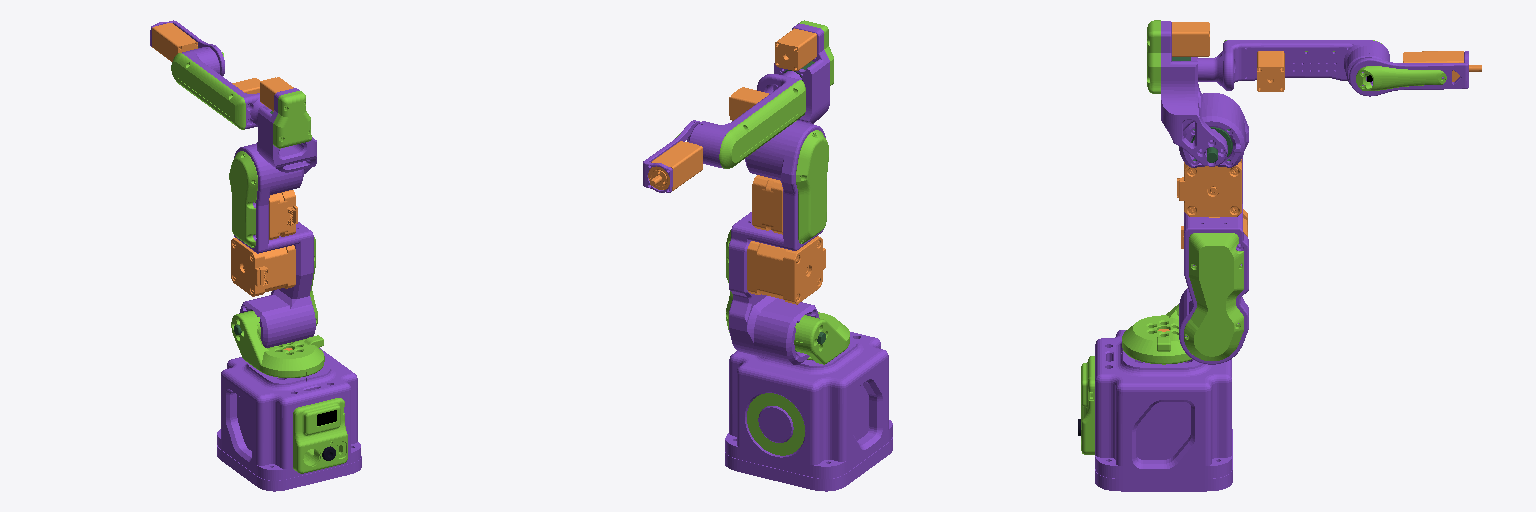
The robot description file, URDF, robot "R6DOF":
<?xml version="1.0"?>
<!-- created with Phobos 1.0.1 "Capricious Choutengan" -->
  <robot name="R6DOF">

    <link name="base">
      <visual name="Main_Base">
        <origin xyz="0 0.00275 0.04322" rpy="1.5708 0 0"/>
        <geometry>
          <mesh filename="package://test_pkg/meshes/dae/Main_Base.dae" scale="1.0 1.0 1.0"/>
        </geometry>
        <material name="VioletLight"/>
      </visual>
      <visual name="Main_BotonLED">
        <origin xyz="-0.01182 -0.04876 0.0236" rpy="1.5708 0 0"/>
        <geometry>
          <mesh filename="package://test_pkg/meshes/dae/Main_BotonLED.dae" scale="1.0 1.0 1.0"/>
        </geometry>
        <material name="GreenLight"/>
      </visual>
      <visual name="Main_CRK543AP-H50">
        <origin xyz="0 -0.00044 0.04208" rpy="1.5708 0 0"/>
        <geometry>
          <mesh filename="package://test_pkg/meshes/dae/Main_CRK543AP-H50.dae" scale="1.0 1.0 1.0"/>
        </geometry>
        <material name="Orange"/>
      </visual>
      <visual name="Main_CaseButtons">
        <origin xyz="-0.0022 -0.04876 0.02871" rpy="1.5708 0 0"/>
        <geometry>
          <mesh filename="package://test_pkg/meshes/dae/Main_CaseButtons.dae" scale="1.0 1.0 1.0"/>
        </geometry>
        <material name="GreenLight"/>
      </visual>
      <visual name="Main_ExtraPart1">
        <origin xyz="0 0.0459 0.039" rpy="1.5708 0 0"/>
        <geometry>
          <mesh filename="package://test_pkg/meshes/dae/Main_ExtraPart1.dae" scale="1.0 1.0 1.0"/>
        </geometry>
        <material name="GreenLight"/>
      </visual>
      <visual name="Main_Screen">
        <origin xyz="0.00144 -0.05835 0.05743" rpy="1.5708 0 0"/>
        <geometry>
          <mesh filename="package://test_pkg/meshes/dae/Main_Screen.dae" scale="1.0 1.0 1.0"/>
        </geometry>
      </visual>
      <visual name="Main_Socket_5V">
        <origin xyz="0.00464 -0.05803 0.02372" rpy="1.5708 0 0"/>
        <geometry>
          <mesh filename="package://test_pkg/meshes/dae/Main_Socket_5V.dae" scale="1.0 1.0 1.0"/>
        </geometry>
        <material name="VioletDark"/>
      </visual>
      <visual name="Main_Soporte">
        <origin xyz="0 0 0" rpy="1.5708 0 0"/>
        <geometry>
          <mesh filename="package://test_pkg/meshes/dae/Main_Soporte.dae" scale="1.0 1.0 1.0"/>
        </geometry>
        <material name="VioletLight"/>
      </visual>
      <collision name="Main_Base">
        <origin xyz="0 0.00275 0.04322" rpy="1.5708 0 0"/>
        <geometry>
          <mesh filename="package://test_pkg/meshes/dae/Main_Base.001.dae" scale="1.0 1.0 1.0"/>
        </geometry>
      </collision>
      <collision name="Main_Soporte">
        <origin xyz="0 0 0" rpy="1.5708 0 0"/>
        <geometry>
          <mesh filename="package://test_pkg/meshes/dae/Main_Soporte.001.dae" scale="1.0 1.0 1.0"/>
        </geometry>
      </collision>
      <inertial name="Main_Base">
        <origin xyz="0 0.00275 0.04322" rpy="1.5708 0 0"/>
        <mass value="0.911"/>
        <inertia ixx="0.001327" ixy="0.0" ixz="0.0" iyy="0.001769" iyz="-0.000010" izz="0.001536"/>
      </inertial>
      <inertial name="Main_Soporte">
        <origin xyz="0 0 0" rpy="1.5708 0 0"/>
        <mass value="0.911"/>
        <inertia ixx="0.001327" ixy="0.0" ixz="0.0" iyy="0.001769" iyz="-0.000010" izz="0.001536"/>
      </inertial>
    </link>

    <link name="link1">
      <visual name="Main_Joint_1">
        <origin xyz="0 0 0" rpy="1.5708 0 0"/>
        <geometry>
          <mesh filename="package://test_pkg/meshes/dae/Main_Joint_1.dae" scale="1.0 1.0 1.0"/>
        </geometry>
        <material name="GreenLight"/>
      </visual>
      <collision name="Main_Joint_1">
        <origin xyz="0 0 0" rpy="1.5708 0 0"/>
        <geometry>
          <mesh filename="package://test_pkg/meshes/dae/Main_Joint_1.001.dae" scale="1.0 1.0 1.0"/>
        </geometry>
      </collision>
      <inertial name="Main_Joint_1">
        <origin xyz="0 0 0" rpy="1.5708 0 0"/>
        <mass value="0.911"/>
        <inertia ixx="0.001327" ixy="0.0" ixz="0.0" iyy="0.001769" iyz="-0.000010" izz="0.001536"/>
      </inertial>
    </link>

    <link name="link2">
      <visual name="Main_CSF-8-30-1U_v2">
        <origin xyz="0 0.146 0.02269" rpy="0 -1.5708 0"/>
        <geometry>
          <mesh filename="package://test_pkg/meshes/dae/Main_CSF-8-30-1U_v2.dae" scale="1.0 1.0 1.0"/>
        </geometry>
        <material name="GreenDark"/>
      </visual>
      <visual name="Main_CSF-8-30-1U_v2_1">
        <origin xyz="-1e-05 0 0.01996" rpy="0 -1.5708 0"/>
        <geometry>
          <mesh filename="package://test_pkg/meshes/dae/Main_CSF-8-30-1U_v2_1.dae" scale="1.0 1.0 1.0"/>
        </geometry>
        <material name="GreenDark"/>
      </visual>
      <visual name="Main_CaseJoint2_3">
        <origin xyz="0 0 0" rpy="0 -1.5708 0"/>
        <geometry>
          <mesh filename="package://test_pkg/meshes/dae/Main_CaseJoint2_3.dae" scale="1.0 1.0 1.0"/>
        </geometry>
        <material name="VioletLight"/>
      </visual>
      <visual name="Main_CaseOutside_1">
        <origin xyz="0.0018 0.12238 -0.00859" rpy="0 -1.5708 0"/>
        <geometry>
          <mesh filename="package://test_pkg/meshes/dae/Main_CaseOutside_1.dae" scale="1.0 1.0 1.0"/>
        </geometry>
        <material name="GreenLight"/>
      </visual>
      <visual name="Main_CaseOutside_2">
        <origin xyz="0.00263 0.03311 0.05513" rpy="0 -1.5708 0"/>
        <geometry>
          <mesh filename="package://test_pkg/meshes/dae/Main_CaseOutside_2.dae" scale="1.0 1.0 1.0"/>
        </geometry>
        <material name="GreenLight"/>
      </visual>
      <visual name="Main_Nema17_Slim">
        <origin xyz="0.00082 0.10757 0.01994" rpy="0 -1.5708 0"/>
        <geometry>
          <mesh filename="package://test_pkg/meshes/dae/Main_Nema17_Slim.dae" scale="1.0 1.0 1.0"/>
        </geometry>
        <material name="Orange"/>
      </visual>
      <visual name="Main_Nema17_StepperMotor">
        <origin xyz="0.00481 0.05535 0.01494" rpy="0 -1.5708 0"/>
        <geometry>
          <mesh filename="package://test_pkg/meshes/dae/Main_Nema17_StepperMotor.dae" scale="1.0 1.0 1.0"/>
        </geometry>
        <material name="Orange"/>
      </visual>
      <collision name="Main_CaseJoint2_3">
        <origin xyz="0 0 0" rpy="0 -1.5708 0"/>
        <geometry>
          <mesh filename="package://test_pkg/meshes/dae/Main_CaseJoint2_3.001.dae" scale="1.0 1.0 1.0"/>
        </geometry>
      </collision>
      <inertial name="Main_CaseJoint2_3">
        <origin xyz="0 0 0" rpy="0 -1.5708 0"/>
        <mass value="0.911"/>
        <inertia ixx="0.001327" ixy="0.0" ixz="0.0" iyy="0.001769" iyz="-0.000010" izz="0.001536"/>
      </inertial>
    </link>

    <link name="link3">
      <visual name="Main_CSF-5-30-1U_v2">
        <origin xyz="0.0214 0.052 0.02015" rpy="0 1.5708 0"/>
        <geometry>
          <mesh filename="package://test_pkg/meshes/dae/Main_CSF-5-30-1U_v2.dae" scale="1.0 1.0 1.0"/>
        </geometry>
        <material name="GreenDark"/>
      </visual>
      <visual name="Main_CaseJoint4">
        <origin xyz="0 0 0" rpy="0 1.5708 0"/>
        <geometry>
          <mesh filename="package://test_pkg/meshes/dae/Main_CaseJoint4.dae" scale="1.0 1.0 1.0"/>
        </geometry>
        <material name="VioletLight"/>
      </visual>
      <visual name="Main_CaseOutside_3">
        <origin xyz="0.0429 0.06027 0.01998" rpy="0 1.5708 0"/>
        <geometry>
          <mesh filename="package://test_pkg/meshes/dae/Main_CaseOutside_3.dae" scale="1.0 1.0 1.0"/>
        </geometry>
        <material name="GreenLight"/>
      </visual>
      <visual name="Main_PK513PA-H50S_v2">
        <origin xyz="0.01629 0.0762 0.02015" rpy="0 1.5708 0"/>
        <geometry>
          <mesh filename="package://test_pkg/meshes/dae/Main_PK513PA-H50S_v2.dae" scale="1.0 1.0 1.0"/>
        </geometry>
        <material name="Orange"/>
      </visual>
      <collision name="Main_CaseJoint4">
        <origin xyz="0 0 0" rpy="0 1.5708 0"/>
        <geometry>
          <mesh filename="package://test_pkg/meshes/dae/Main_CaseJoint4.001.dae" scale="1.0 1.0 1.0"/>
        </geometry>
      </collision>
      <inertial name="Main_CaseJoint4">
        <origin xyz="0 0 0" rpy="0 1.5708 0"/>
        <mass value="0.911"/>
        <inertia ixx="0.001327" ixy="0.0" ixz="0.0" iyy="0.001769" iyz="-0.000010" izz="0.001536"/>
      </inertial>
    </link>

    <link name="link4">
      <visual name="Main_CSF-5-30-1U_v2_1">
        <origin xyz="0.0026 0 0.127" rpy="0 3.14159 0"/>
        <geometry>
          <mesh filename="package://test_pkg/meshes/dae/Main_CSF-5-30-1U_v2_1.dae" scale="1.0 1.0 1.0"/>
        </geometry>
        <material name="Black"/>
      </visual>
      <visual name="Main_CaseJoint_5_1">
        <origin xyz="0 0 0" rpy="0 3.14159 0"/>
        <geometry>
          <mesh filename="package://test_pkg/meshes/dae/Main_CaseJoint_5_1.dae" scale="1.0 1.0 1.0"/>
        </geometry>
        <material name="VioletLight"/>
      </visual>
      <visual name="Main_CaseJoint_5_2">
        <origin xyz="0.00941 0.00049 0.096" rpy="0 3.14159 0"/>
        <geometry>
          <mesh filename="package://test_pkg/meshes/dae/Main_CaseJoint_5_2.dae" scale="1.0 1.0 1.0"/>
        </geometry>
        <material name="VioletLight"/>
      </visual>
      <visual name="Main_CaseOutside_4">
        <origin xyz="0.02242 0.00045 0.07361" rpy="0 3.14159 0"/>
        <geometry>
          <mesh filename="package://test_pkg/meshes/dae/Main_CaseOutside_4.dae" scale="1.0 1.0 1.0"/>
        </geometry>
        <material name="GreenLight"/>
      </visual>
      <visual name="Main_PK513PA-H50S_v2_1">
        <origin xyz="-0.00251 0 0.0549" rpy="0 3.14159 0"/>
        <geometry>
          <mesh filename="package://test_pkg/meshes/dae/Main_PK513PA-H50S_v2_1.dae" scale="1.0 1.0 1.0"/>
        </geometry>
        <material name="Orange"/>
      </visual>
      <collision name="Main_CaseJoint_5_1">
        <origin xyz="0 0 0" rpy="0 3.14159 0"/>
        <geometry>
          <mesh filename="package://test_pkg/meshes/dae/Main_CaseJoint_5_1.001.dae" scale="1.0 1.0 1.0"/>
        </geometry>
      </collision>
      <collision name="Main_CaseJoint_5_2">
        <origin xyz="0.00941 0.00049 0.096" rpy="0 3.14159 0"/>
        <geometry>
          <mesh filename="package://test_pkg/meshes/dae/Main_CaseJoint_5_2.001.dae" scale="1.0 1.0 1.0"/>
        </geometry>
      </collision>
      <inertial name="Main_CaseJoint_5_1">
        <origin xyz="0 0 0" rpy="0 3.14159 0"/>
        <mass value="0.911"/>
        <inertia ixx="0.001327" ixy="0.0" ixz="0.0" iyy="0.001769" iyz="-0.000010" izz="0.001536"/>
      </inertial>
      <inertial name="Main_CaseJoint_5_2">
        <origin xyz="0.00941 0.00049 0.096" rpy="0 3.14159 0"/>
        <mass value="0.911"/>
        <inertia ixx="0.001327" ixy="0.0" ixz="0.0" iyy="0.001769" iyz="-0.000010" izz="0.001536"/>
      </inertial>
      
    </link>

    <link name="link5">
      <visual name="Main_CaseJoint_6">
        <origin xyz="0 0 0" rpy="0 -1.5708 0"/>
        <geometry>
          <mesh filename="package://test_pkg/meshes/dae/Main_CaseJoint_6.dae" scale="1.0 1.0 1.0"/>
        </geometry>
        <material name="VioletLight"/>
      </visual>
      <visual name="Main_CaseOutside_5">
        <origin xyz="0.01892 0.00032 0.01025" rpy="0 -1.5708 0"/>
        <geometry>
          <mesh filename="package://test_pkg/meshes/dae/Main_CaseOutside_5.dae" scale="1.0 1.0 1.0"/>
        </geometry>
        <material name="GreenLight"/>
      </visual>
      <visual name="Main_PK513PA-H50S_v1">
        <origin xyz="0.04794 0.00061 -0.0068" rpy="0 -1.5708 0"/>
        <geometry>
          <mesh filename="package://test_pkg/meshes/dae/Main_PK513PA-H50S_v1.dae" scale="1.0 1.0 1.0"/>
        </geometry>
        <material name="Orange"/>
      </visual>
      <collision name="Main_CaseJoint_6">
        <origin xyz="0 0 0" rpy="0 -1.5708 0"/>
        <geometry>
          <mesh filename="package://test_pkg/meshes/dae/Main_CaseJoint_6.001.dae" scale="1.0 1.0 1.0"/>
        </geometry>
      </collision>
      <inertial name="Main_CaseJoint_6">
        <origin xyz="0 0 0" rpy="0 -1.5708 0"/>
        <mass value="0.911"/>
        <inertia ixx="0.001327" ixy="0.0" ixz="0.0" iyy="0.001769" iyz="-0.000010" izz="0.001536"/>
      </inertial>
    </link>

    <link name="link6">
      <visual name="Gripper">
        <origin xyz="0 0 0" rpy="0 0 0"/>
        <geometry>
          <mesh filename="package://test_pkg/meshes/dae/Gripper.dae" scale="0.25 0.25 0.25"/>
        </geometry>
        <material name="Black"/>
      </visual>
      <collision name="Gripper">
        <origin xyz="0 -3e-05 0.01258" rpy="0 0 0"/>
        <geometry>
          <cylinder radius="0.00621" length="0.0263"/>
        </geometry>
      </collision>
      <inertial name="Gripper">
        <origin xyz="0 -3e-05 0.01258" rpy="0 0 0"/>
        <mass value="0.911"/>
        <inertia ixx="0.001327" ixy="0.0" ixz="0.0" iyy="0.001769" iyz="-0.000010" izz="0.001536"/>
      </inertial>
    </link>

    <joint name="joint1" type="revolute">
      <origin xyz="0 0 0.076" rpy="0 0 0"/>
      <parent link="base"/>
      <child link="link1"/>
      <axis xyz="0 0 1.0"/>
      <limit lower="-3.14159" upper="3.14159" effort="3.5" velocity="52.35988"/>
    </joint>

    <joint name="joint2" type="revolute">
      <origin xyz="-0.0175 0.035 0.035" rpy="1.5708 0 1.5708"/>
      <parent link="link1"/>
      <child link="link2"/>
      <axis xyz="0 0 1.0"/>
      <limit lower="-1.5708" upper="1.29154" effort="0.3" velocity="34.90659"/>
    </joint>

    <joint name="joint3" type="revolute">
      <origin xyz="0 0.146 0.03765" rpy="0 3.14159 0"/>
      <parent link="link2"/>
      <child link="link3"/>
      <axis xyz="0 0 1.0"/>
      <limit lower="-0.73304" upper="1.5708" effort="0.17" velocity="26.17994"/>
    </joint>

    <joint name="joint4" type="revolute">
      <origin xyz="0.012 0.052 0.02015" rpy="0 -1.5708 0"/>
      <parent link="link3"/>
      <child link="link4"/>
      <axis xyz="0 0 1.0"/>
      <limit lower="-3.14159" upper="3.14159" effort="0.4" velocity="2.61799"/>
    </joint>

    <joint name="joint5" type="revolute">
      <origin xyz="-0.0068 0 0.127" rpy="0 -1.5708 0"/>
      <parent link="link4"/>
      <child link="link5"/>
      <axis xyz="0 0 1.0"/>
      <limit lower="-2.35619" upper="2.35619" effort="0.4" velocity="2.61799"/>
    </joint>

    <joint name="joint6" type="revolute">
      <origin xyz="0.07739 0.00077 -0.0068" rpy="0 1.5708 0"/>
      <parent link="link5"/>
      <child link="link6"/>
      <axis xyz="0 0 1.0"/>
      <limit lower="-3.14159" upper="3.14159" effort="0.4" velocity="78.53982"/>
    </joint>

    <material name="Black">
      <color rgba="0 0 0 1.0"/>
    </material>

    <material name="GreenDark">
      <color rgba="0.24706 0.42745 0.30588 1.0"/>
    </material>

    <material name="GreenLight">
      <color rgba="0.5451 0.83137 0.31372 1.0"/>
    </material>

    <material name="Orange">
      <color rgba="0.97647 0.61569 0.32157 1.0"/>
    </material>

    <material name="VioletDark">
      <color rgba="0.11372 0.10196 0.18431 1.0"/>
    </material>

    <material name="VioletLight">
      <color rgba="0.58824 0.37255 0.83137 1.0"/>
    </material>

  </robot>

--- Render facts (derived) ---
3 views of the same robot in one strip: view 1: azimuth 30°, elevation 25°; view 2: azimuth 150°, elevation 25°; view 3: azimuth 270°, elevation 25° (orthographic).
Model R6DOF with 7 links and 6 joints (6 revolute), rooted at base, posed every joint at zero.
Links seen in each view (by area): view 1: base, link2, link3, link4, link1, link5; view 2: base, link2, link4, link3, link5, link1; view 3: base, link2, link4, link3, link5, link1.
Link boxes in pixels (x1,y1,x2,y2): base: (217,348,361,491); link2: (229,143,317,347); link3: (257,77,316,173); link4: (171,47,268,129); link1: (231,311,324,377); link5: (150,20,224,75); base: (725,332,892,491); link2: (726,121,828,364); link4: (689,71,805,168); link3: (774,20,833,123); link5: (643,120,702,192); link1: (794,312,849,364); base: (1078,329,1232,491); link2: (1177,93,1248,364); link4: (1197,40,1389,91); link3: (1147,20,1227,166); link5: (1349,51,1481,96); link1: (1122,304,1191,364).
Size in the robot's own frame: 0.101 by 0.2948 by 0.3507 metres.
Meshes: 29 distinct files referenced, 27 mesh visuals loaded (27 Collada DAE); not drawn: 2 (reference not matched to a file when rendering).